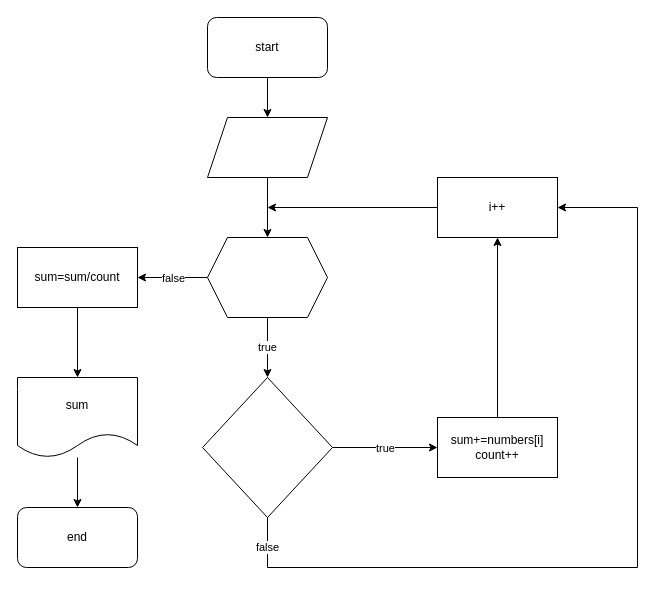
Image size: 663x593. Some labels were removed from this diagram. Here are the shapes that lost their labels. From the top down, the centre of each, then its label:
pixel 267 147: numbers[ ] sum=0 i=0 count++
pixel 267 277: i<numbers.length
pixel 267 447: numbers[i]%2==1
